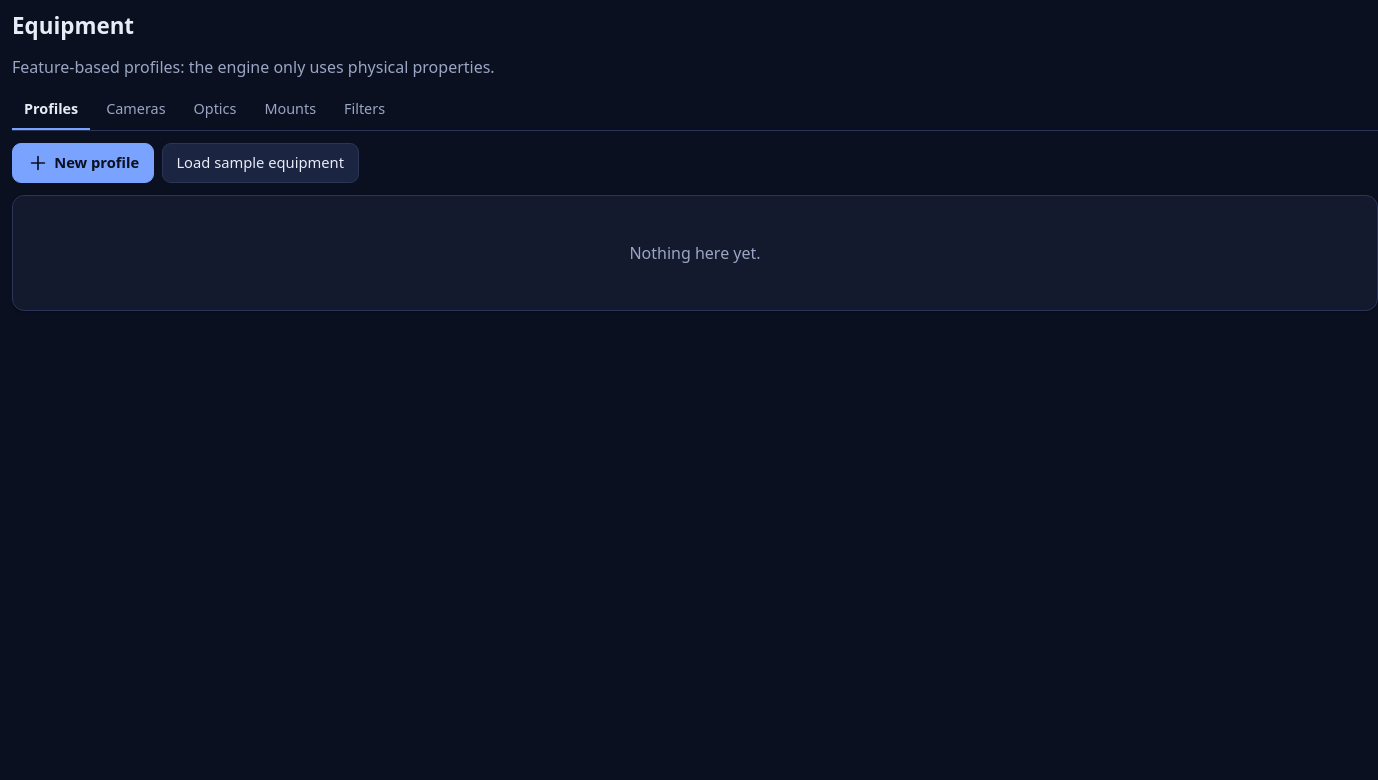
Test: Equipment page › loads the sample equipment preset as ordinary editable profiles
The image size is (1378, 780).
Click the button "Load sample equipment": (260, 163) [162,143,359,183]
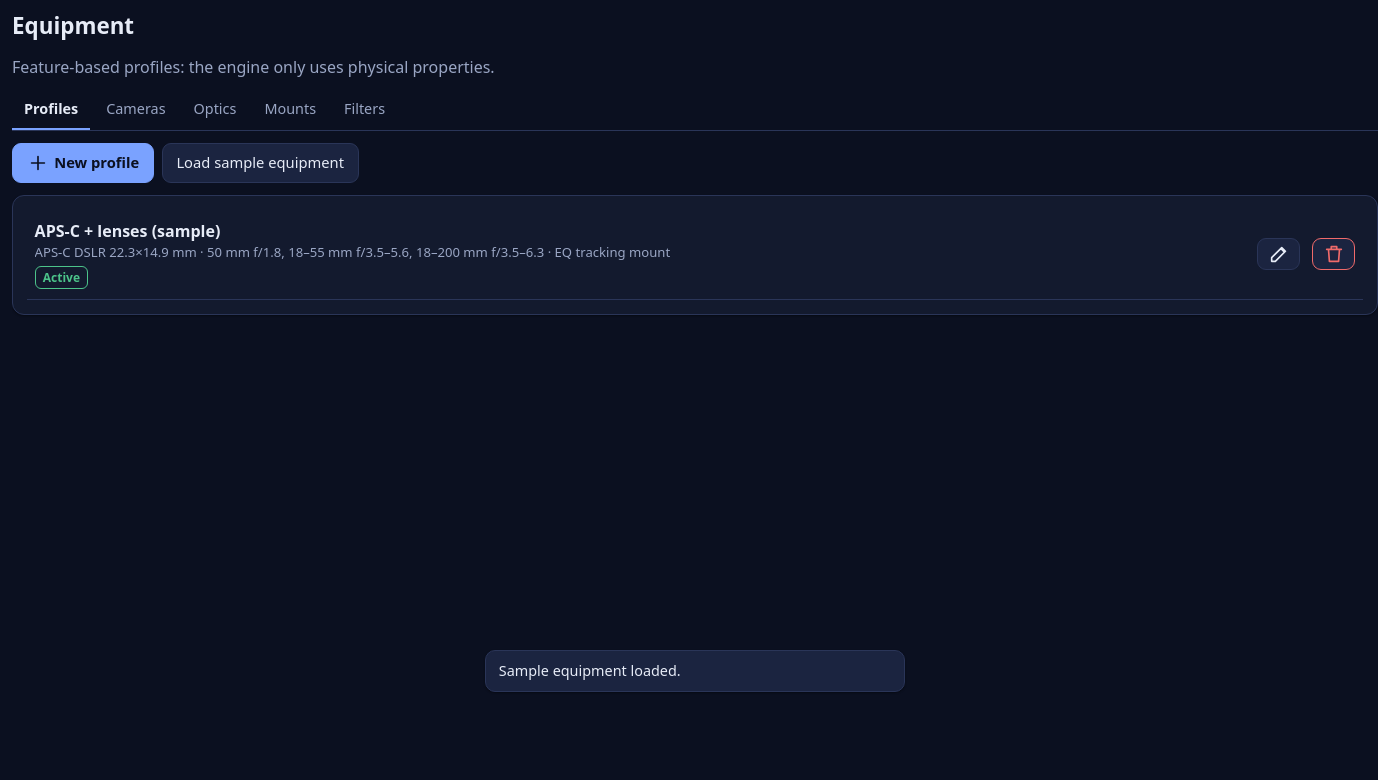
Expected: the text "APS-C + lenses (sample)" is shown, [35,220,220,242]
